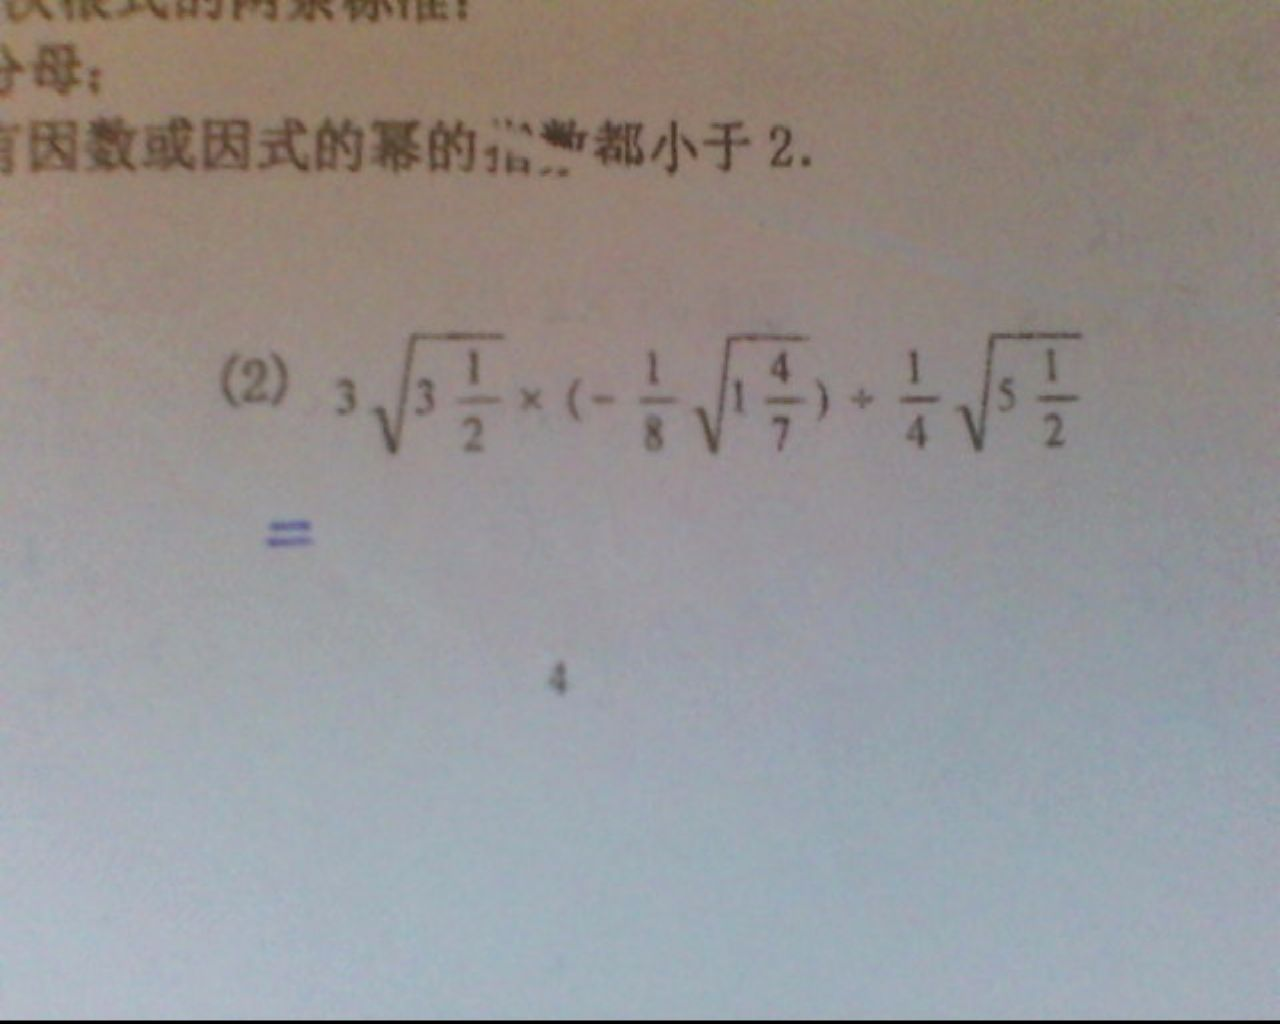division: (757, 389, 813, 415), (445, 394, 508, 417), (1026, 389, 1085, 411)
sqrt: (953, 322, 1095, 467), (694, 318, 811, 472), (376, 325, 505, 465)
